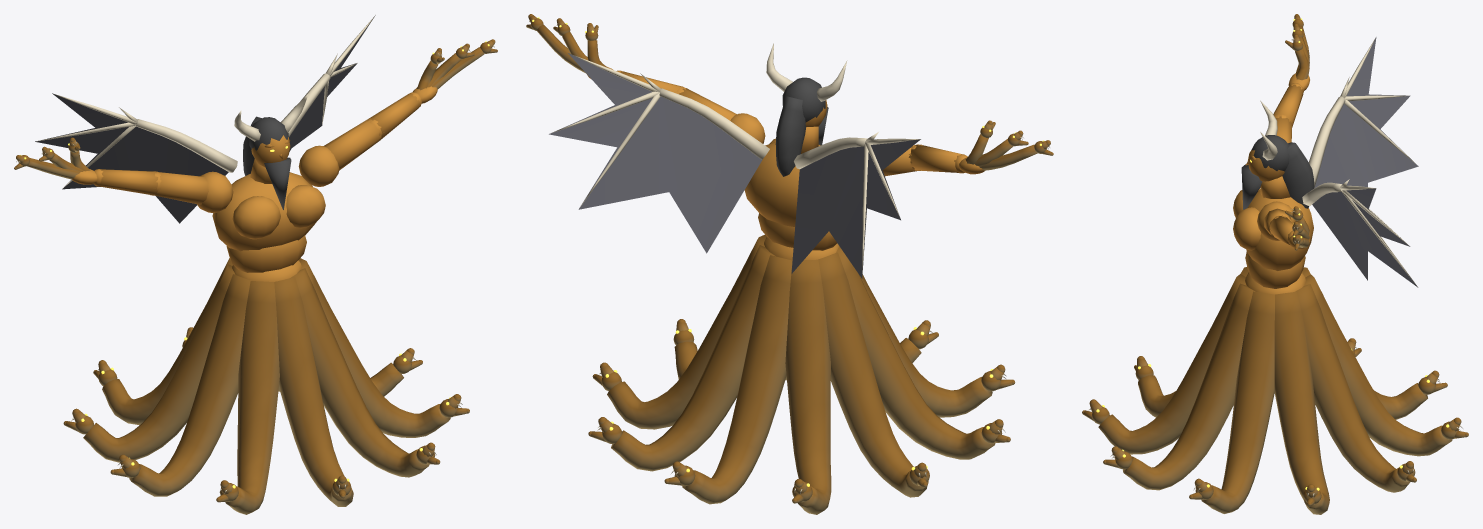
Rendered from typhon.glb.
The picture shows the model from 3 angles, left to right: view 1: azimuth 30°, elevation 25°; view 2: azimuth 150°, elevation 25°; view 3: azimuth 270°, elevation 25°; orthographic projection. The views are drawn at different scales.
Parts seen in each view (by area): view 1: serpents, torso, head, upperarm_L, upperarm_R, hand_L, hand_R, forearm_R, forearm_L, pelvis; view 2: serpents, torso, head, hand_R, hand_L, forearm_R, upperarm_L, pelvis; view 3: serpents, torso, head, hand_R, forearm_R, upperarm_L, hand_L, pelvis, forearm_L.
Boxes of the visible parts, left/top/right/bottom form: serpents: left=63, top=258, right=469, bottom=514; torso: left=35, top=15, right=375, bottom=272; head: left=234, top=94, right=308, bottom=209; upperarm_L: left=298, top=119, right=384, bottom=186; upperarm_R: left=150, top=171, right=233, bottom=212; hand_L: left=413, top=39, right=497, bottom=103; hand_R: left=14, top=137, right=97, bottom=184; forearm_R: left=93, top=169, right=161, bottom=195; forearm_L: left=367, top=92, right=421, bottom=139; pelvis: left=232, top=260, right=301, bottom=281; serpents: left=588, top=234, right=1015, bottom=514; torso: left=549, top=53, right=920, bottom=278; head: left=766, top=43, right=847, bottom=176; hand_R: left=959, top=120, right=1053, bottom=174; hand_L: left=526, top=14, right=612, bottom=78; forearm_R: left=908, top=144, right=967, bottom=173; upperarm_L: left=677, top=88, right=765, bottom=143; pelvis: left=764, top=237, right=839, bottom=260; serpents: left=1082, top=267, right=1468, bottom=514; torso: left=1233, top=37, right=1418, bottom=288; head: left=1241, top=100, right=1314, bottom=209; hand_R: left=1285, top=14, right=1309, bottom=90; forearm_R: left=1273, top=83, right=1303, bottom=127; upperarm_L: left=1257, top=201, right=1295, bottom=240; hand_L: left=1285, top=206, right=1309, bottom=250; pelvis: left=1245, top=272, right=1305, bottom=294; forearm_L: left=1269, top=215, right=1293, bottom=244.
Bounding box in the file's own units: 24.47 × 17.25 × 17.7.
